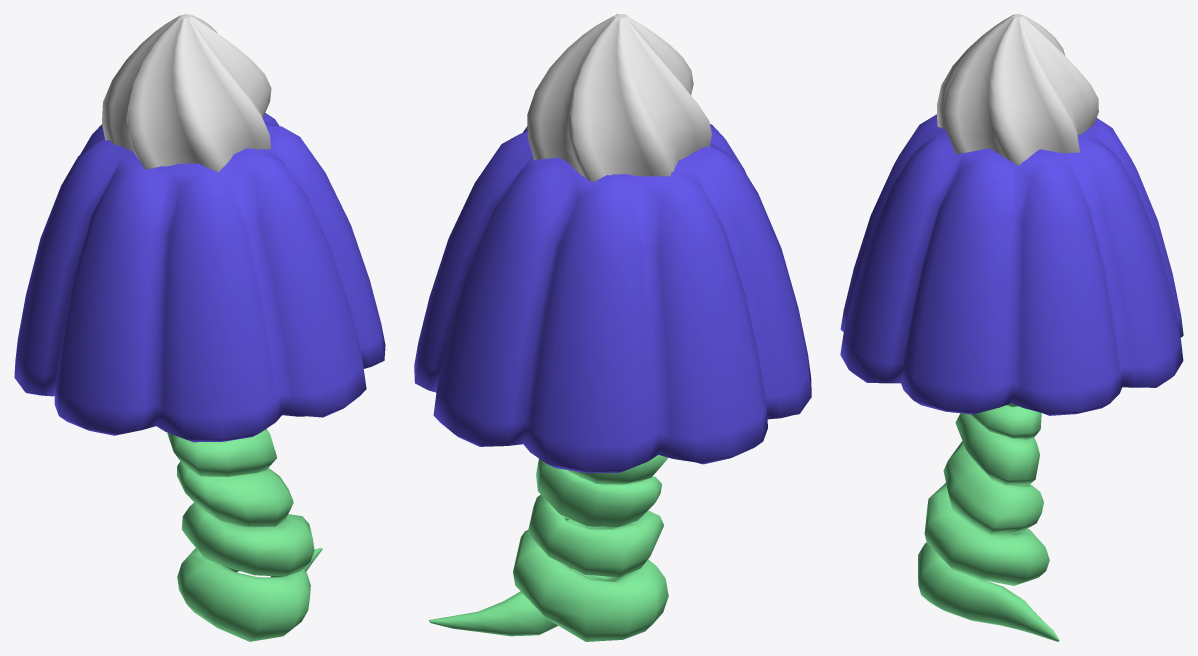
File: arbol_gelatina3.fbx
3 views of the same model, side by side, from view 1: azimuth 30°, elevation 25°; view 2: azimuth 150°, elevation 25°; view 3: azimuth 270°, elevation 25° (orthographic). The views are drawn at different scales.
Parts seen in each view (by area): view 1: gelatina, Tronco, Nata; view 2: gelatina, Tronco, Nata; view 3: gelatina, Tronco, Nata.
Boxes of the visible parts, x1,y1,x2,y2 form: gelatina: (14,113,385,442); Tronco: (167,429,322,641); Nata: (102,14,271,172); gelatina: (414,124,811,472); Tronco: (429,455,668,641); Nata: (527,14,711,182); gelatina: (840,114,1183,415); Tronco: (918,403,1059,641); Nata: (937,14,1098,165).
Size of the model in its own units: 305 by 556 by 305.
